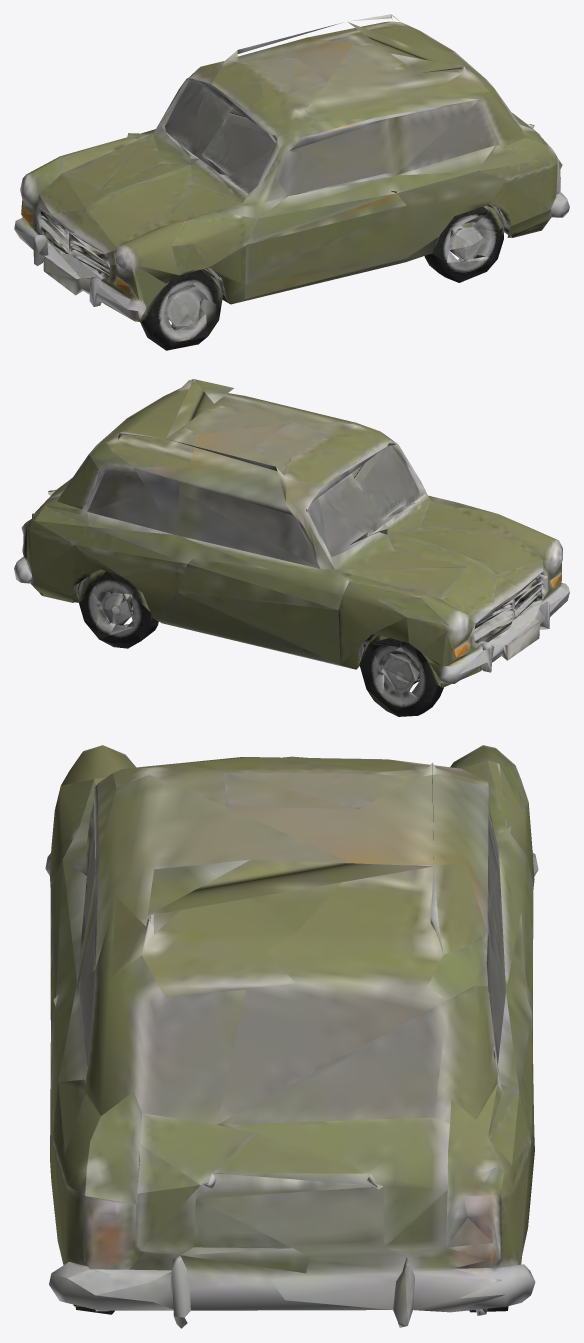
The model's file is getkong-car5.glb.
3 renders of one model, top to bottom at view 1: azimuth 30°, elevation 25°; view 2: azimuth 150°, elevation 25°; view 3: azimuth 270°, elevation 25°, orthographic. The views are drawn at different scales.
Visible parts, largest first — view 1: output_unwrapped; view 2: output_unwrapped; view 3: output_unwrapped.
Boxes of the visible parts, <box> form: output_unwrapped: <box>14,14,569,350</box>; output_unwrapped: <box>14,379,569,716</box>; output_unwrapped: <box>45,745,538,1328</box>.
Bounding box in the file's own units: 1.9 × 0.8144 × 0.8815.
1 material, 1 textured.
